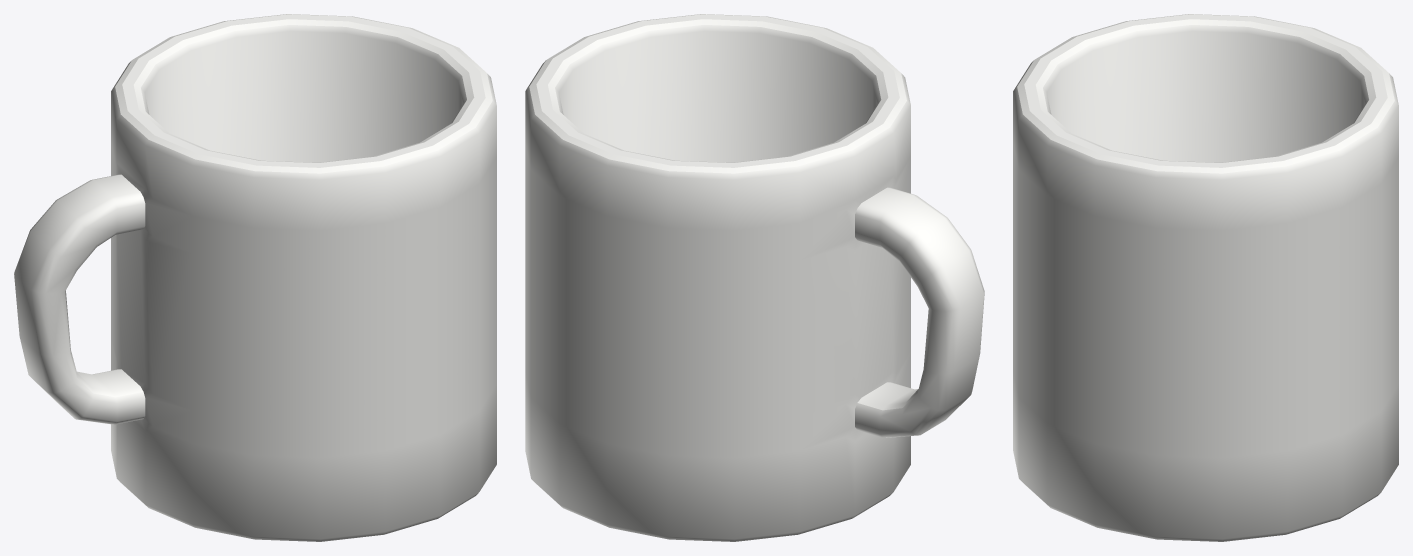
File: Cocina_Taza_20.fbx
The picture shows the model from 3 angles, left to right: view 1: azimuth 30°, elevation 25°; view 2: azimuth 150°, elevation 25°; view 3: azimuth 270°, elevation 25°; orthographic projection.
Parts seen in each view (by area): view 1: taza; view 2: taza; view 3: taza.
Boxes of the visible parts, x1,y1,x2,y2 form: taza: [14, 14, 496, 541]; taza: [525, 14, 984, 541]; taza: [1013, 14, 1398, 541].
Bounding box in the file's own units: 15.6 × 12.77 × 11.95.
1 material, 1 textured.
